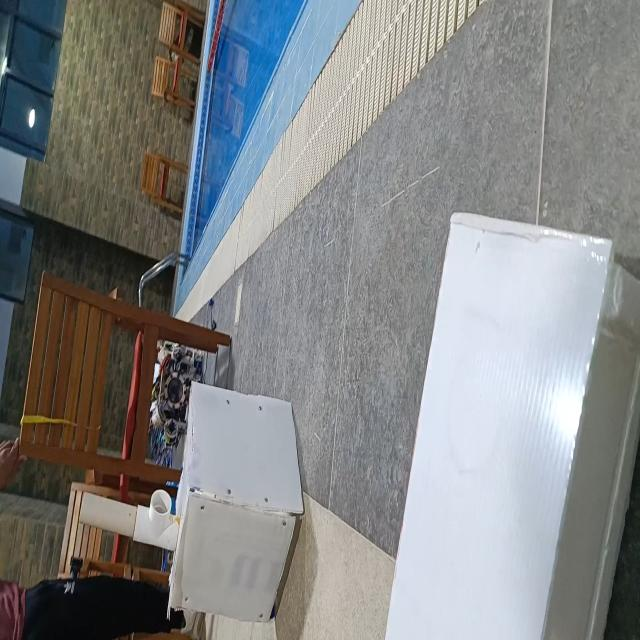Cube: (167, 379, 305, 624)
Cuboid: (384, 208, 614, 638)
